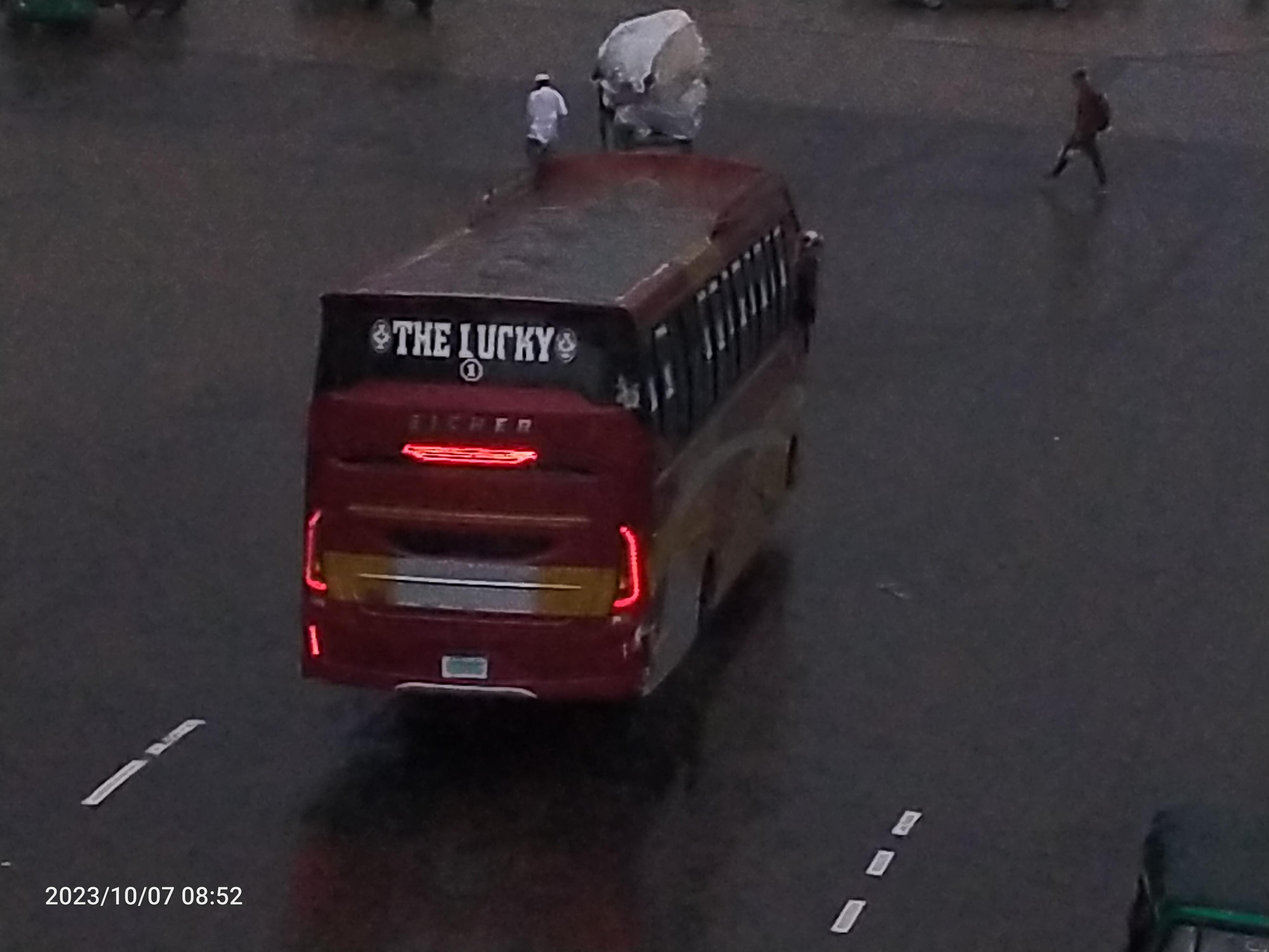Bus: (220, 121, 947, 797)
